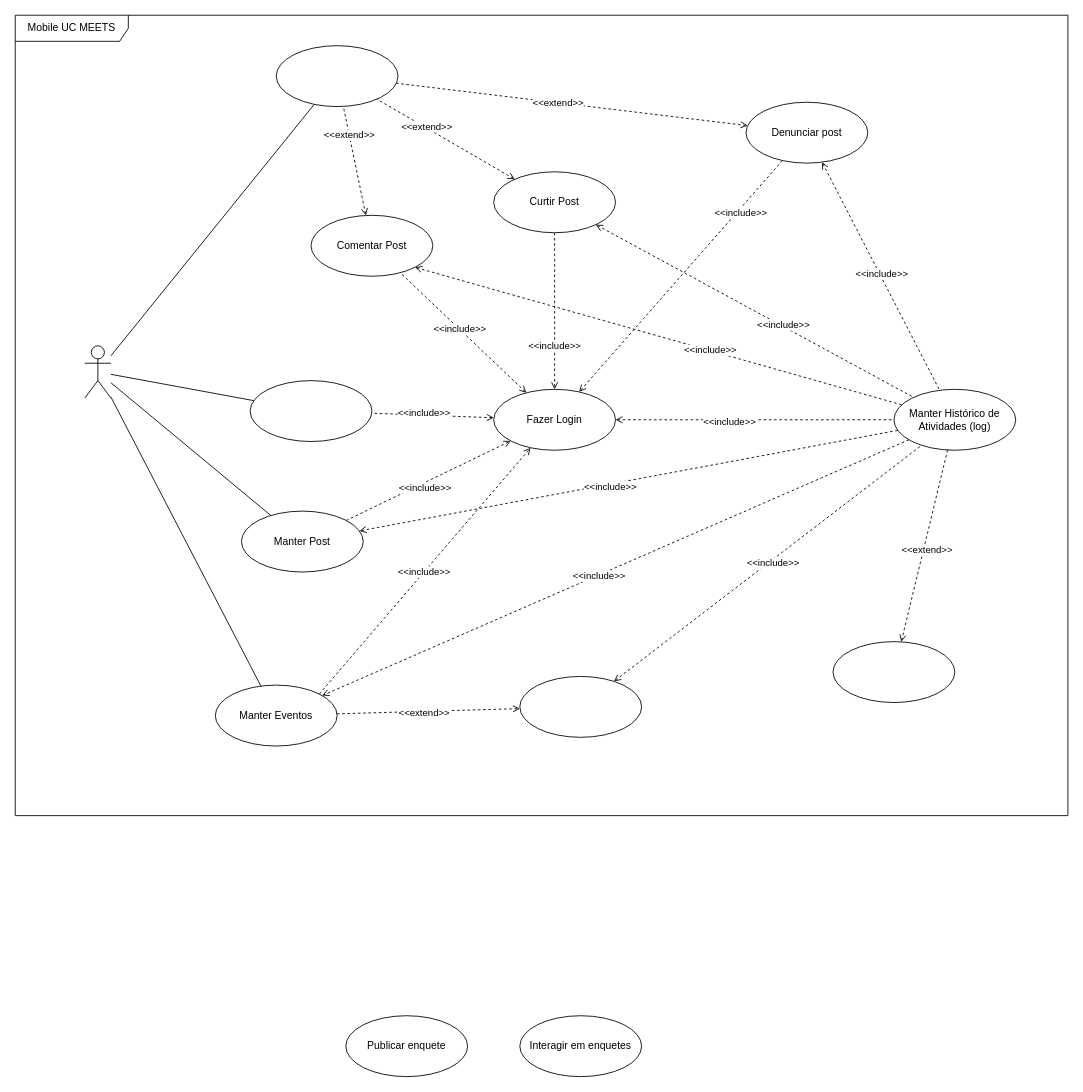
The diagram is 1083 pixels wide and 1092 high, and some of its shapes have lost their labels. The box of each missing label's shape, as (x1, y1, x2, y2) in pixels:
Aluno: (84, 345, 111, 398)
Confirmar Presença: (519, 676, 642, 737)
Converter atividade em pontuaçao: (832, 641, 955, 703)
Manter usuario: (249, 380, 372, 442)
Visualizar Feed: (275, 45, 398, 107)
